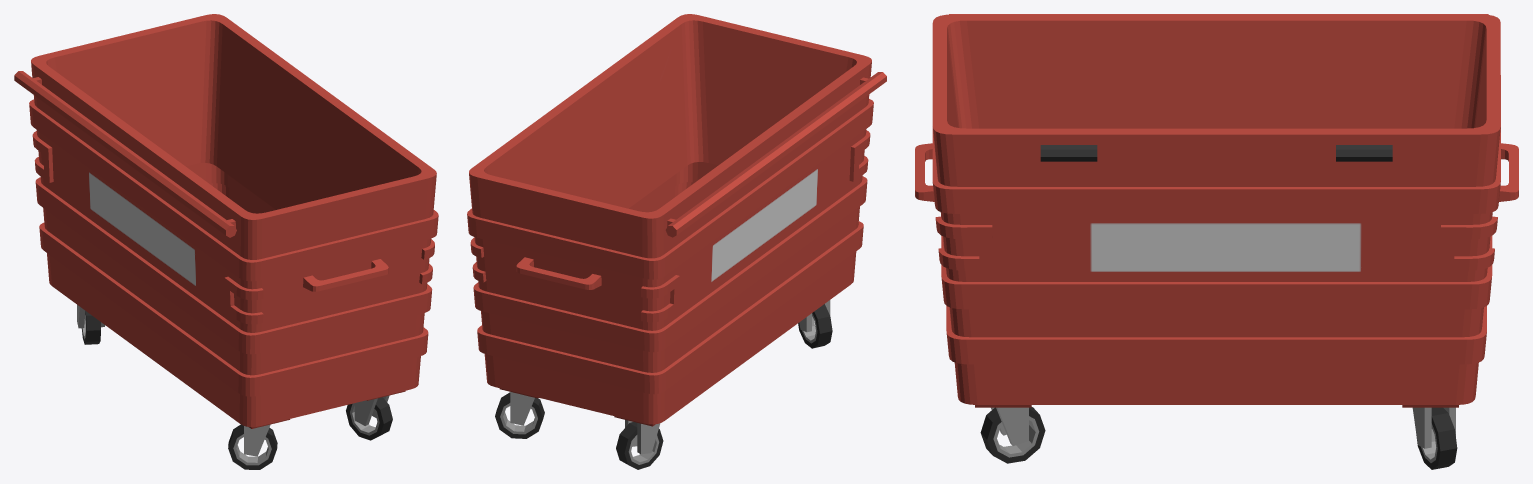
File: obj_trashcan_001.FBX
3 renders of one model, left to right at view 1: azimuth 30°, elevation 25°; view 2: azimuth 150°, elevation 25°; view 3: azimuth 270°, elevation 25°, orthographic. The views are drawn at different scales.
Parts seen in each view (by area): view 1: obj_trashcan_001; view 2: obj_trashcan_001; view 3: obj_trashcan_001.
Boxes of the visible parts, bbox=[...] form: obj_trashcan_001: bbox=[14, 14, 438, 469]; obj_trashcan_001: bbox=[467, 14, 886, 469]; obj_trashcan_001: bbox=[915, 14, 1518, 469].
Bounding box in the file's own units: 114 × 136 × 213.
